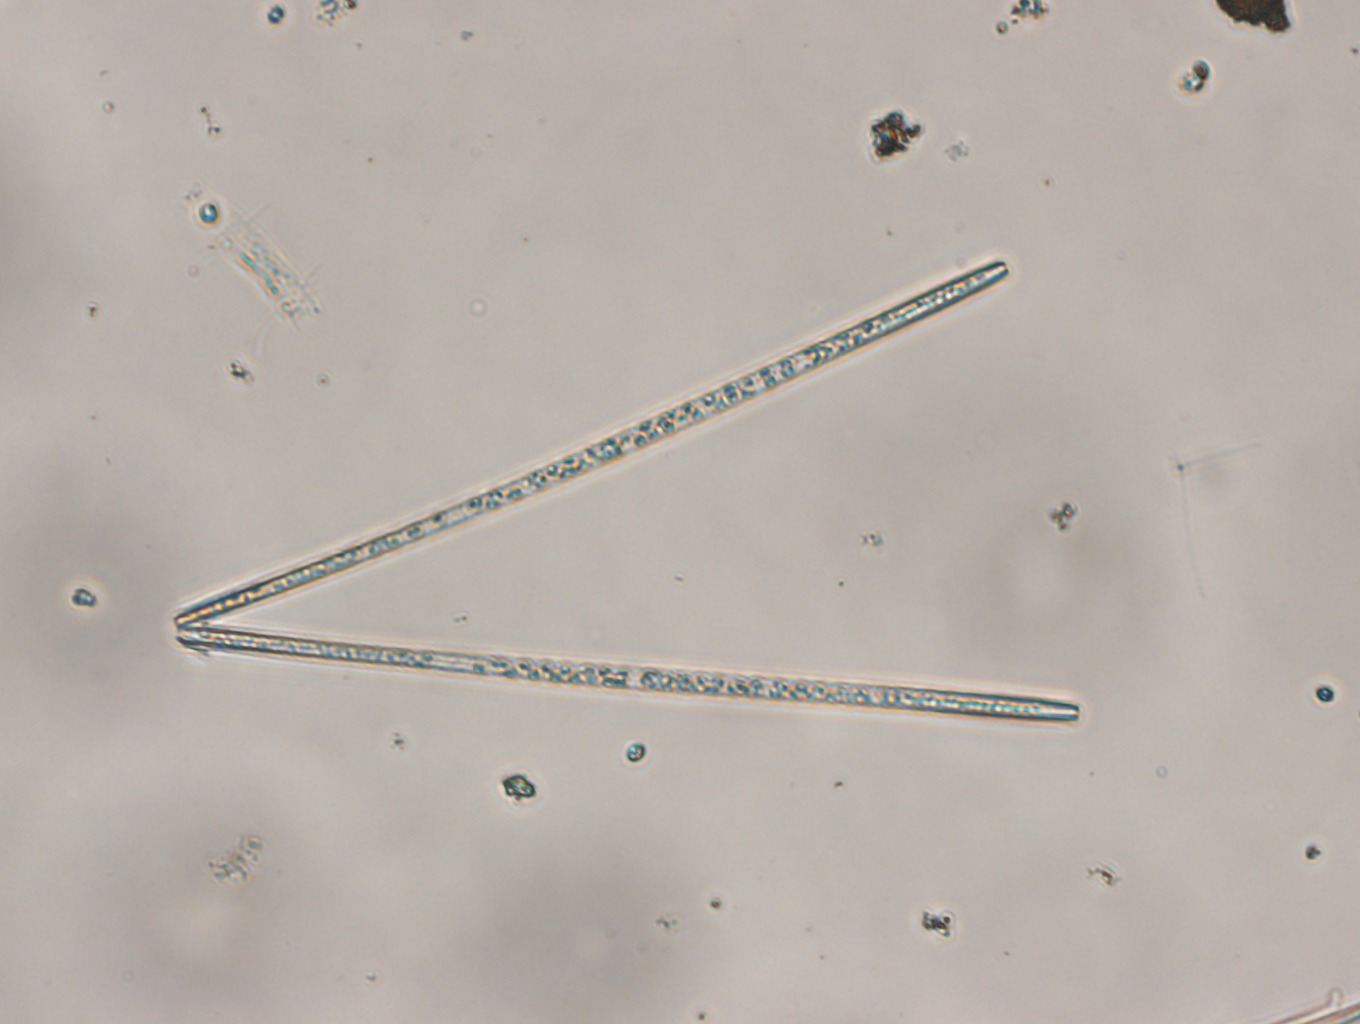thalassionema frauenfeldii: (169, 259, 1098, 745)
